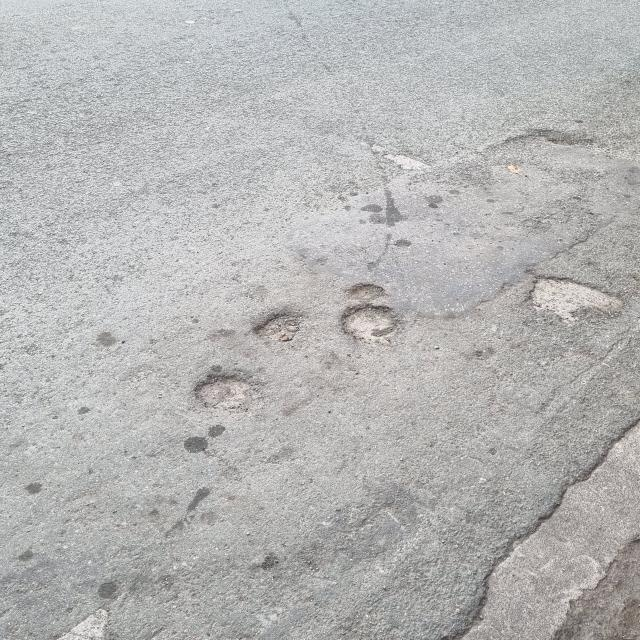pothole: (520, 252, 628, 344), (333, 268, 419, 366), (181, 358, 276, 426), (242, 300, 320, 358)
